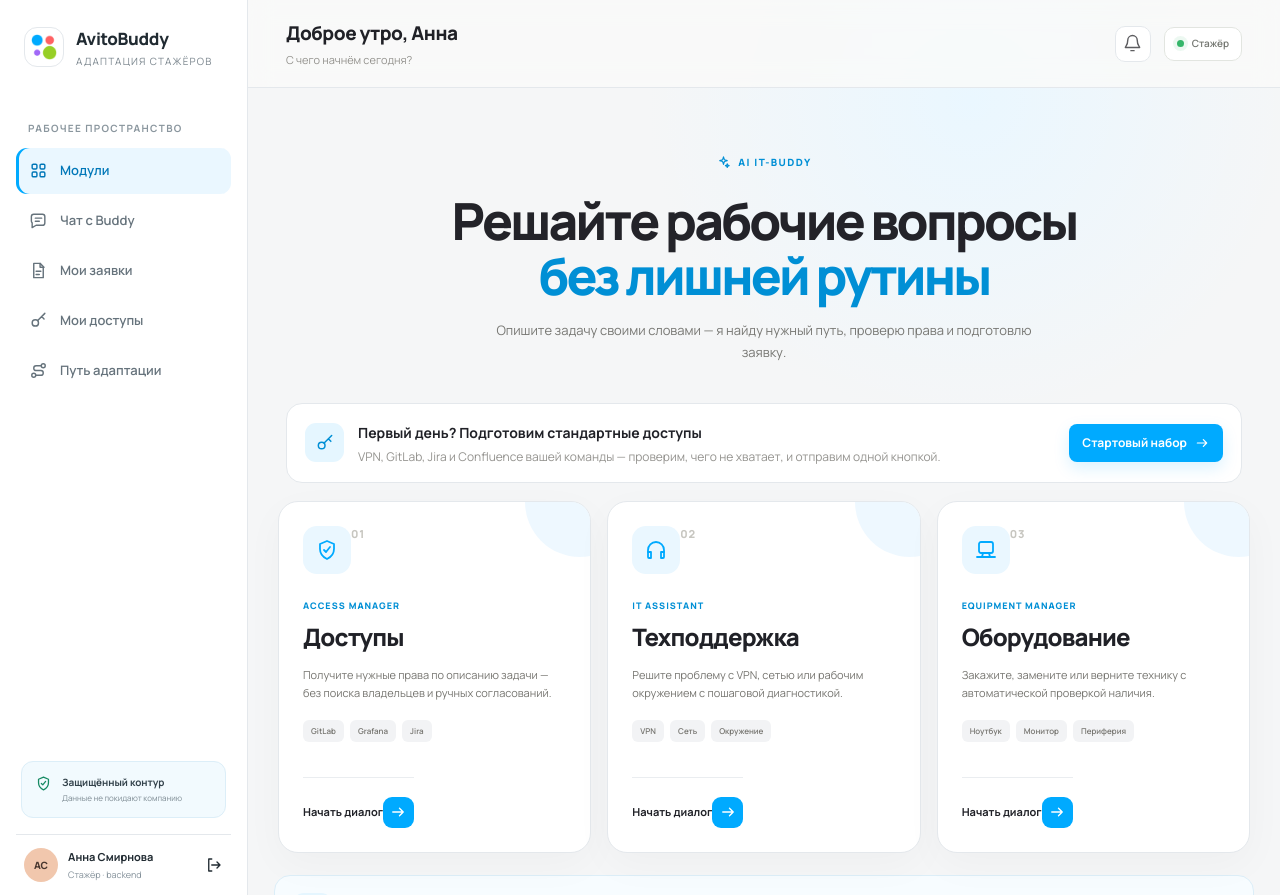
Test: стажер › стартовый набор: все уже есть, и ошибка
The image size is (1280, 895).
Later steps or results of the test are not shown.
Click the button "Стартовый набор" at (1146, 443), box [1069,424,1223,462]
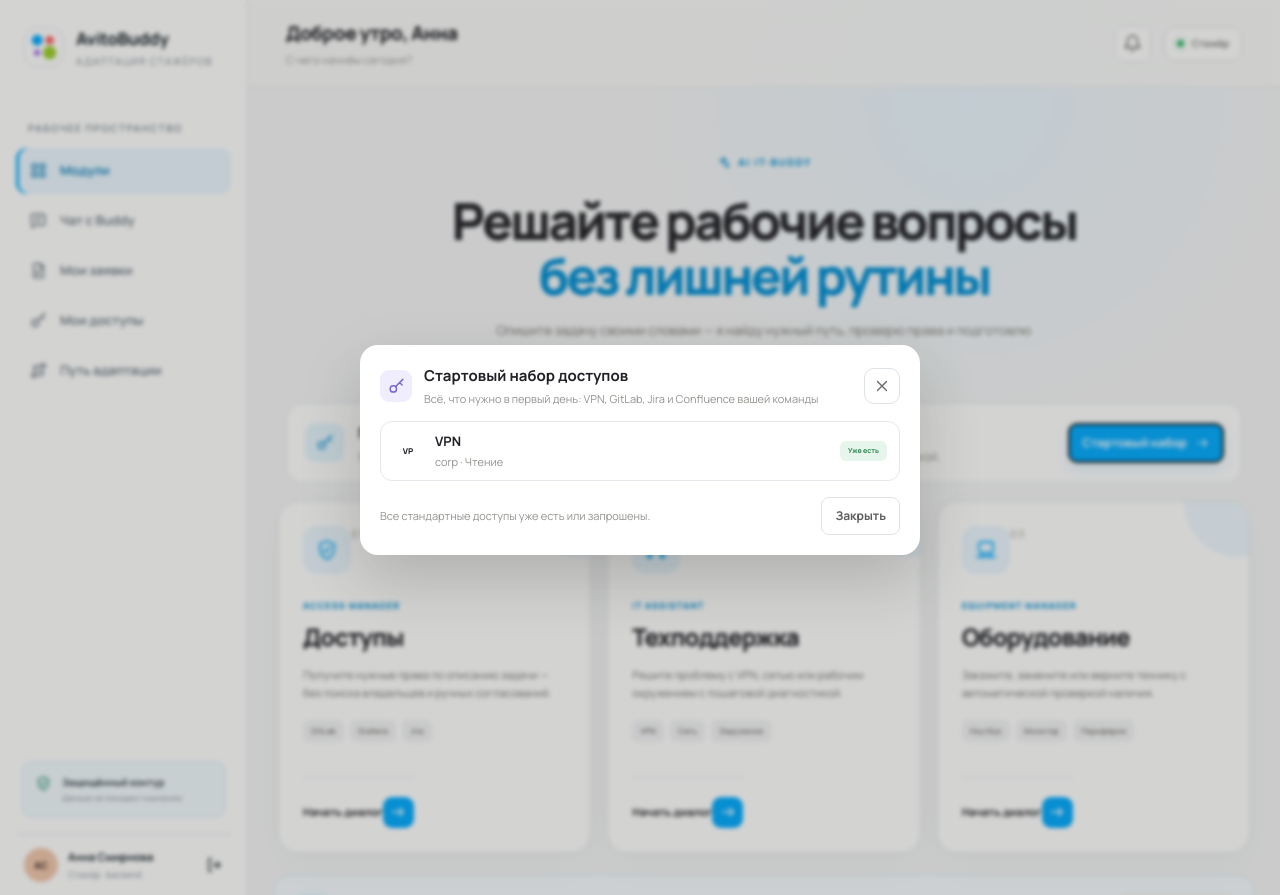
Expected: the text "Все стандартные доступы уже есть или запрошены." is shown, [380,508,650,524]
Click the button "Закрыть" at (861, 516), box [821,497,900,535]
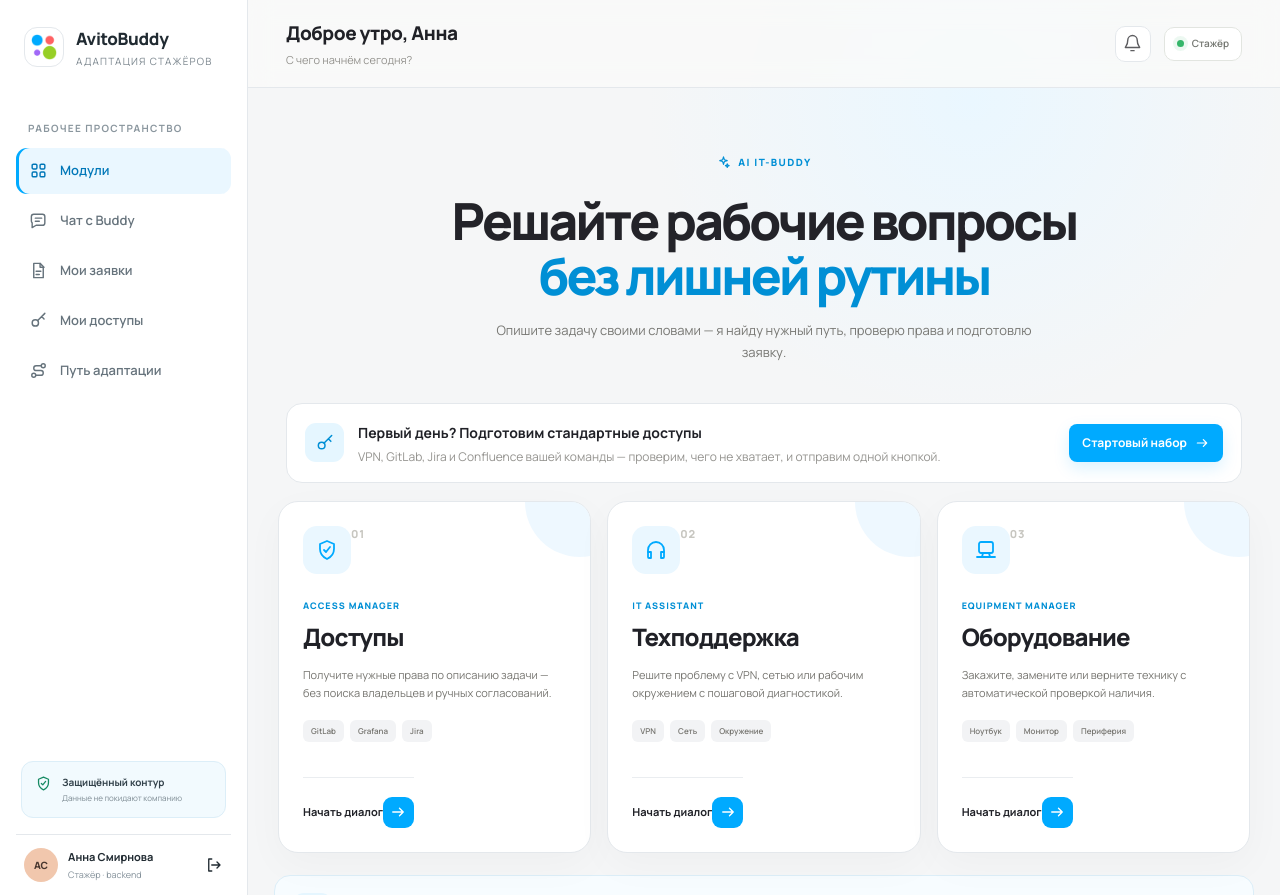
Click the button "Стартовый набор" at (1146, 443), box [1069,424,1223,462]
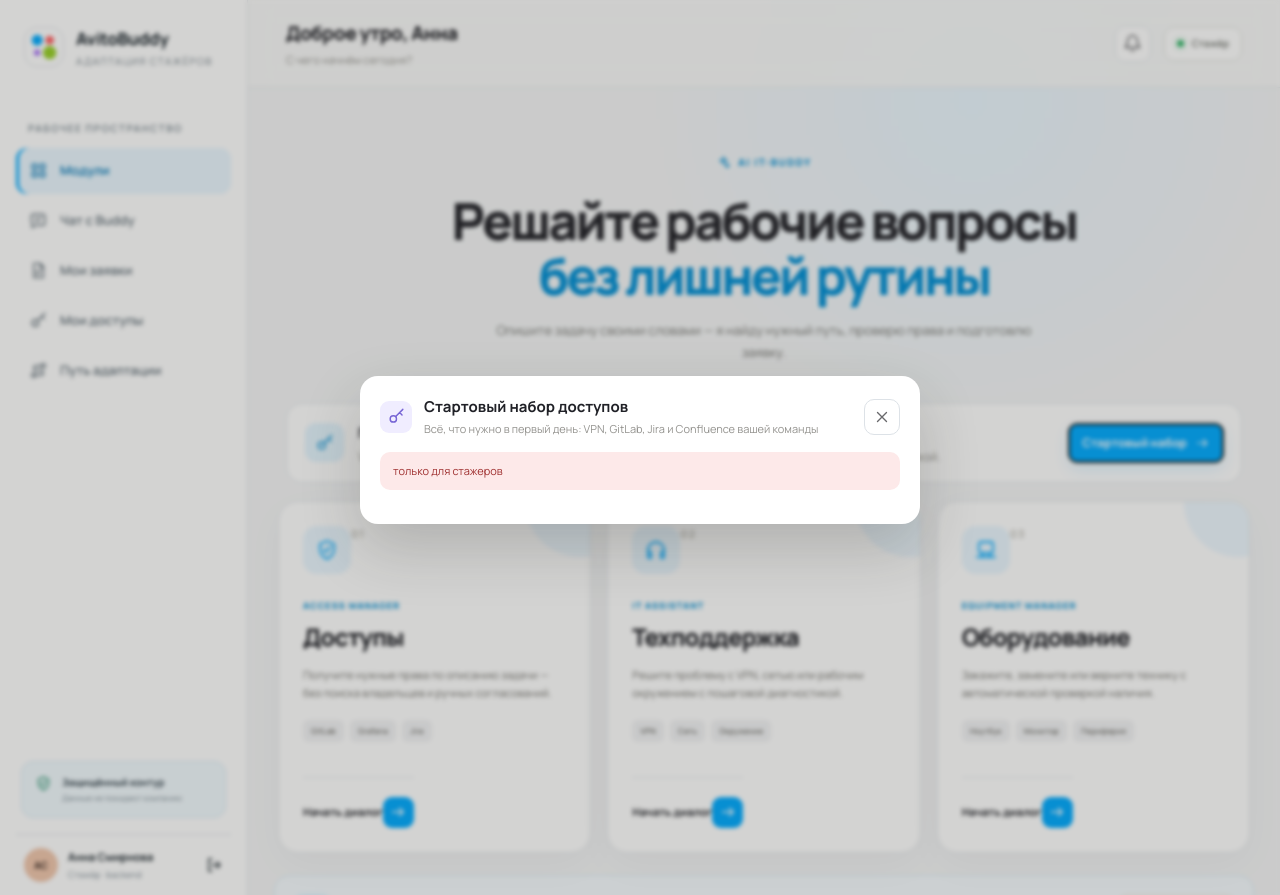
Expected: the text "только для стажеров" is shown, [380,452,900,490]
